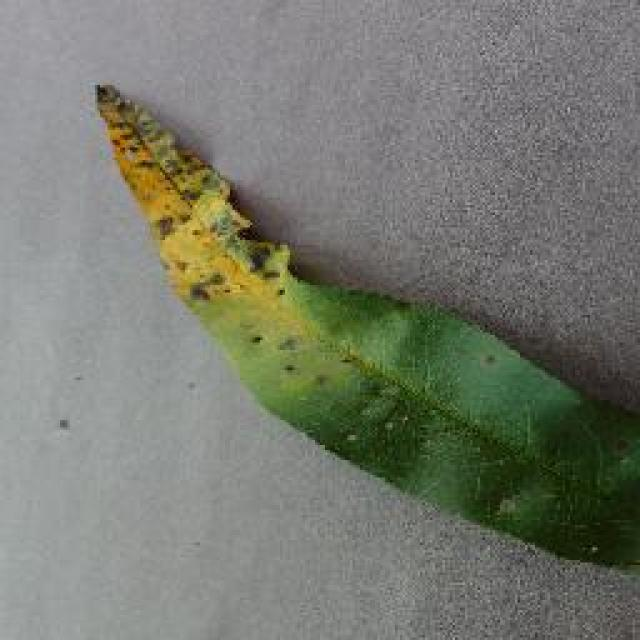Peach_Bacterial_Spot: (76, 62, 446, 475)
